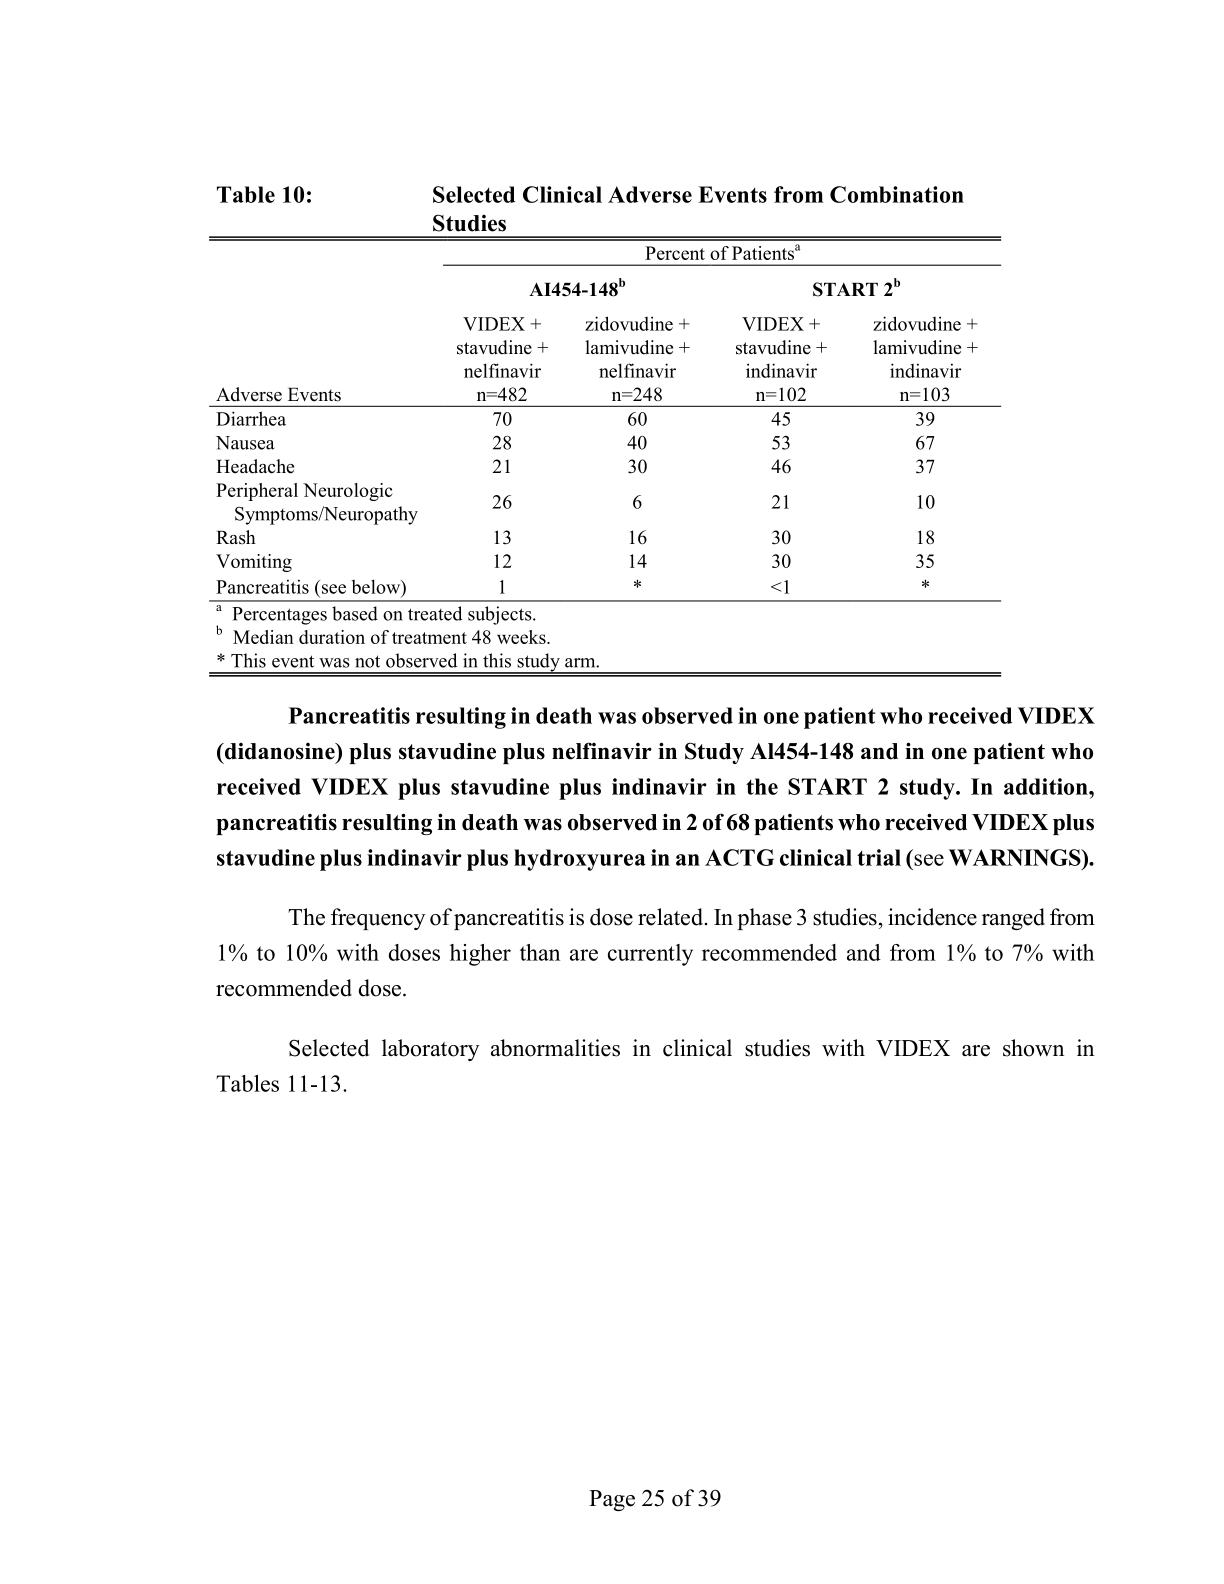partial_lined_merged_cells: (207, 231, 1004, 603)
